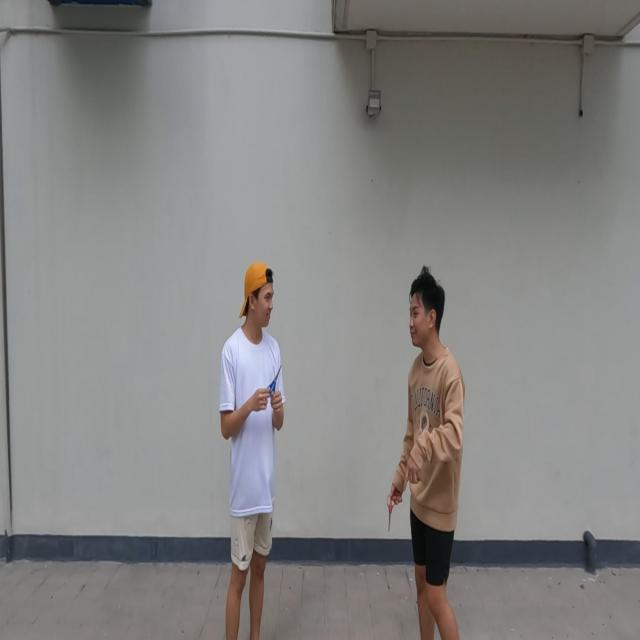scissor: (266, 364, 282, 398), (387, 494, 396, 532)
